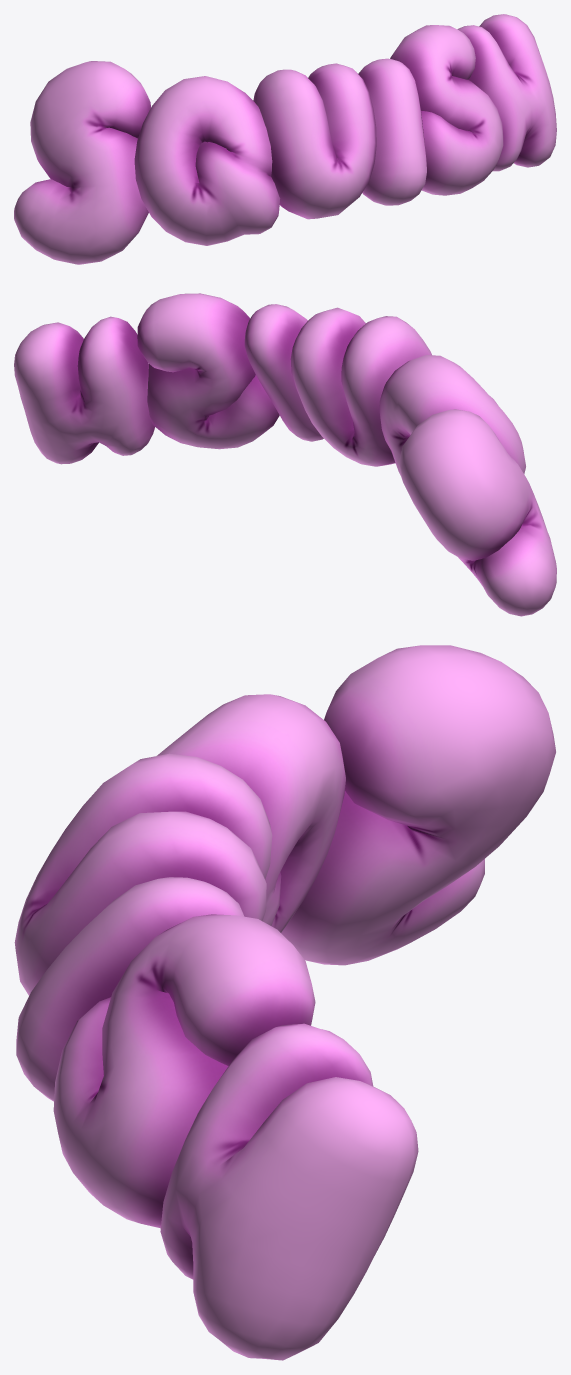
Rendered from Chop, chop.glb.
The picture shows the model from 3 angles, top to bottom: view 1: azimuth 30°, elevation 25°; view 2: azimuth 150°, elevation 25°; view 3: azimuth 270°, elevation 25°; orthographic projection. The views are drawn at different scales.
Visible parts, largest first — view 1: squish_geo.1; view 2: squish_geo.1; view 3: squish_geo.1.
Part boxes in pixels (x1,y1,x2,y2): squish_geo.1: (14, 14, 556, 264); squish_geo.1: (14, 293, 556, 616); squish_geo.1: (14, 645, 555, 1360).
Size of the model in its own units: 4.2 by 1.47 by 1.99.
1 material, 1 textured.
